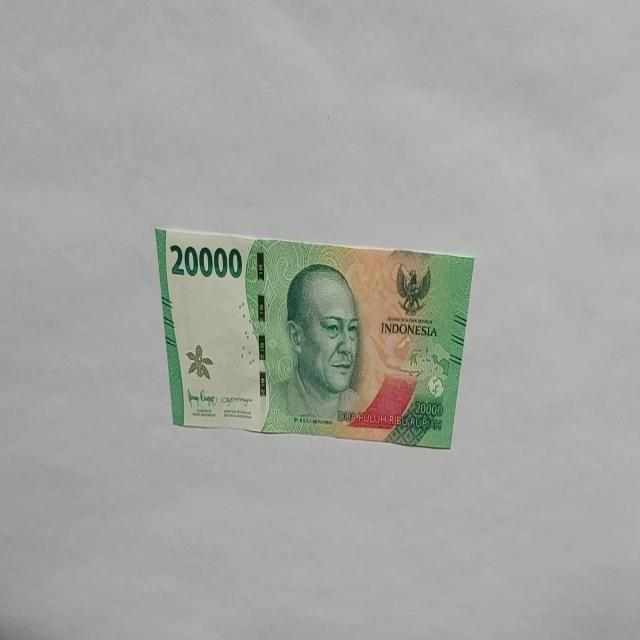dua puluh ribu rupiah: (154, 225, 475, 449)
